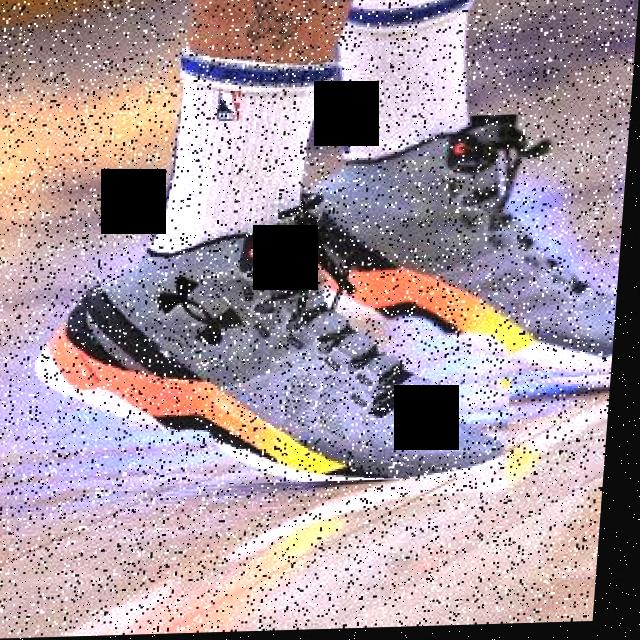shoe: (33, 191, 528, 491), (270, 115, 632, 399)
